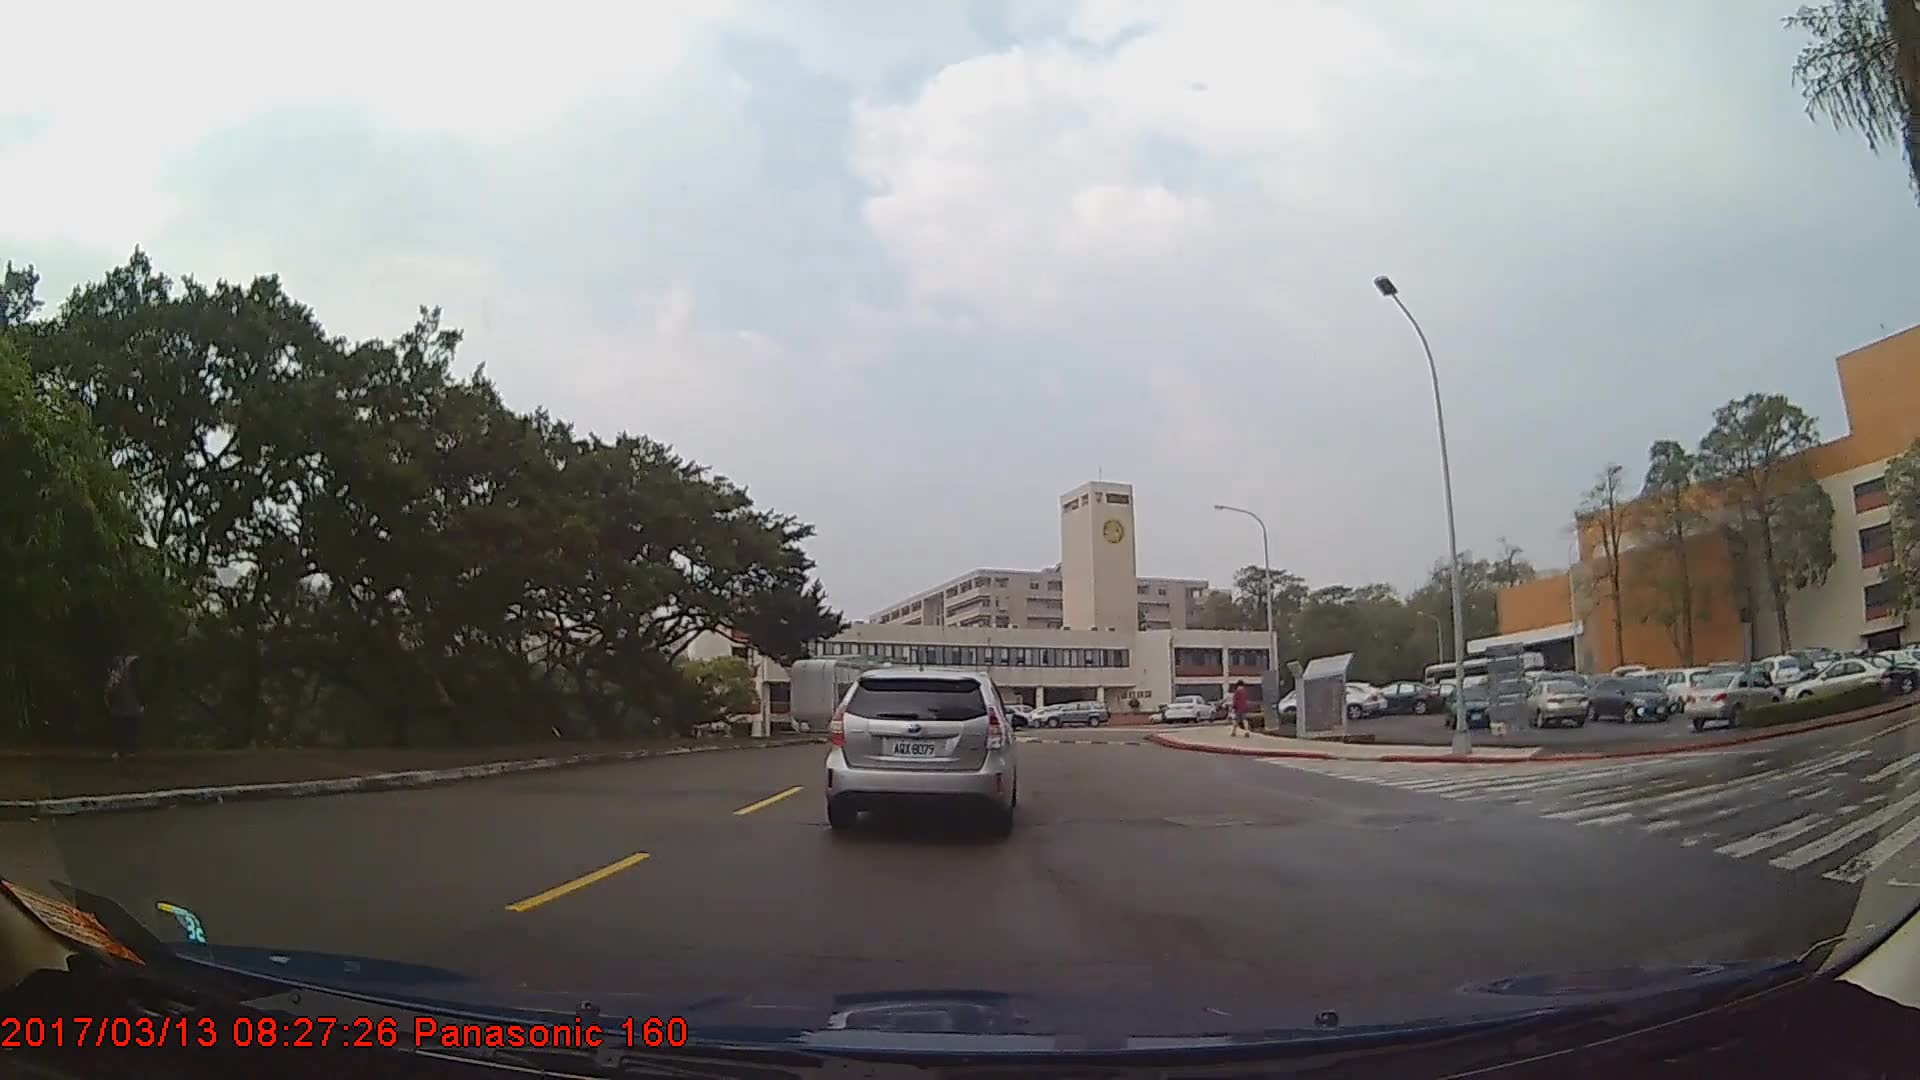pedestrian: (97, 632, 154, 765), (1231, 681, 1253, 738)
vehicle: (826, 664, 1016, 834), (1684, 666, 1779, 728), (1785, 655, 1892, 704), (1587, 673, 1672, 722), (1521, 675, 1591, 727), (1367, 678, 1441, 713), (1445, 683, 1500, 727), (1035, 698, 1110, 725), (1162, 693, 1212, 720)
